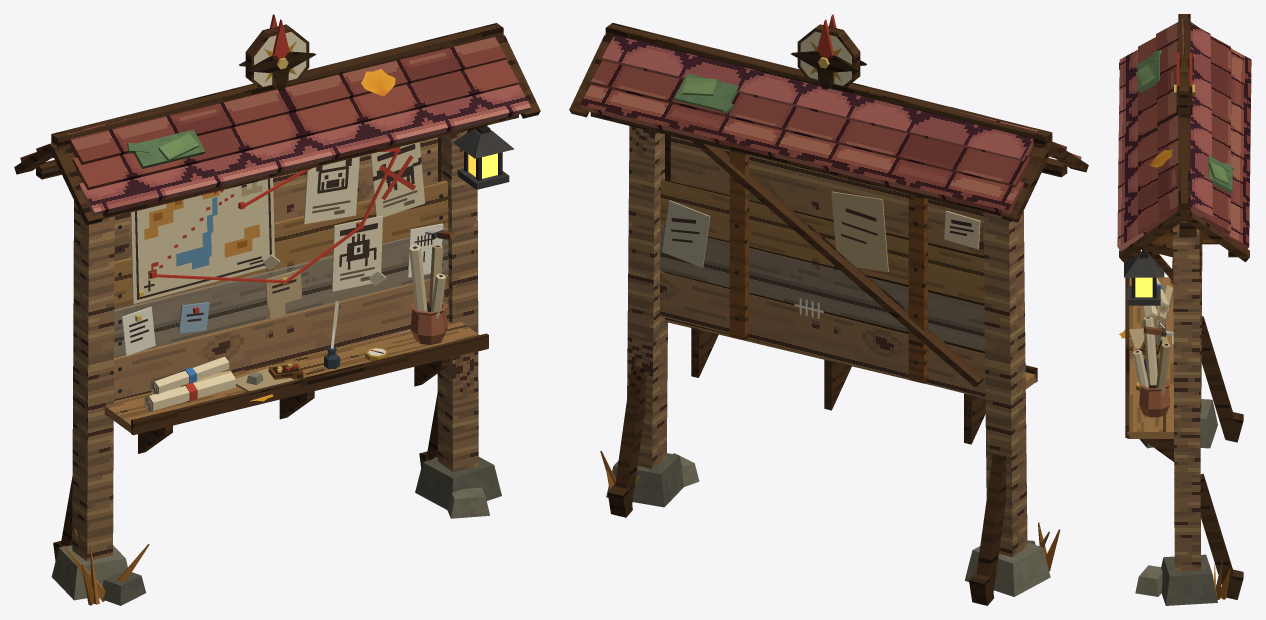
File: op_board.glb
The picture shows the model from 3 angles, left to right: view 1: azimuth 30°, elevation 25°; view 2: azimuth 150°, elevation 25°; view 3: azimuth 270°, elevation 25°; orthographic projection. The views are drawn at different scales.
Visible parts, largest first — view 1: op_board; view 2: op_board; view 3: op_board, glow_lantern.
Boxes of the visible parts, x1,y1,x2,y2 form: op_board: (14, 14, 540, 605); op_board: (569, 14, 1088, 605); op_board: (1117, 14, 1251, 605); glow_lantern: (1135, 277, 1152, 297).
Size of the model in its own units: 2.62 by 2.92 by 0.7632.
Materials: 44 (19 with a texture image).
